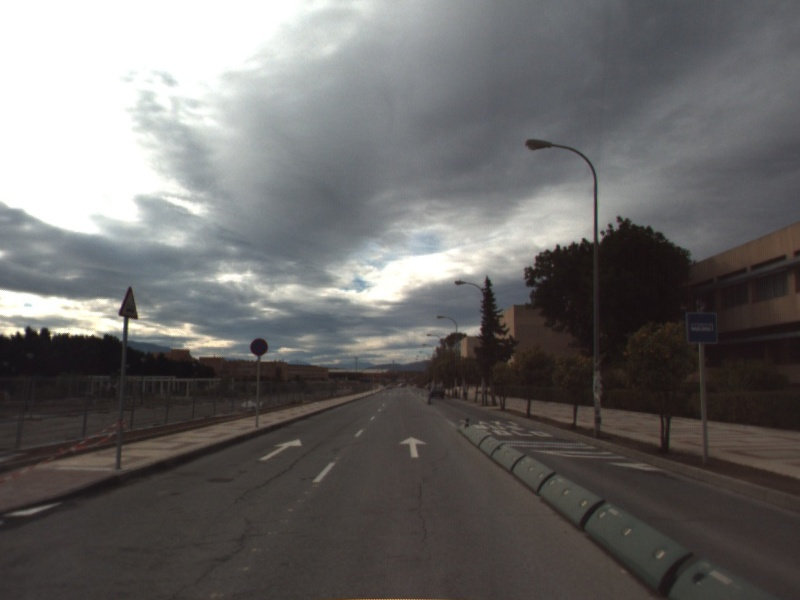STRAIGHT: (256, 436, 304, 463), (397, 434, 430, 460)
